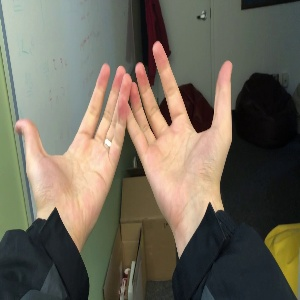hand: (127, 41, 232, 209), (16, 62, 126, 219)
